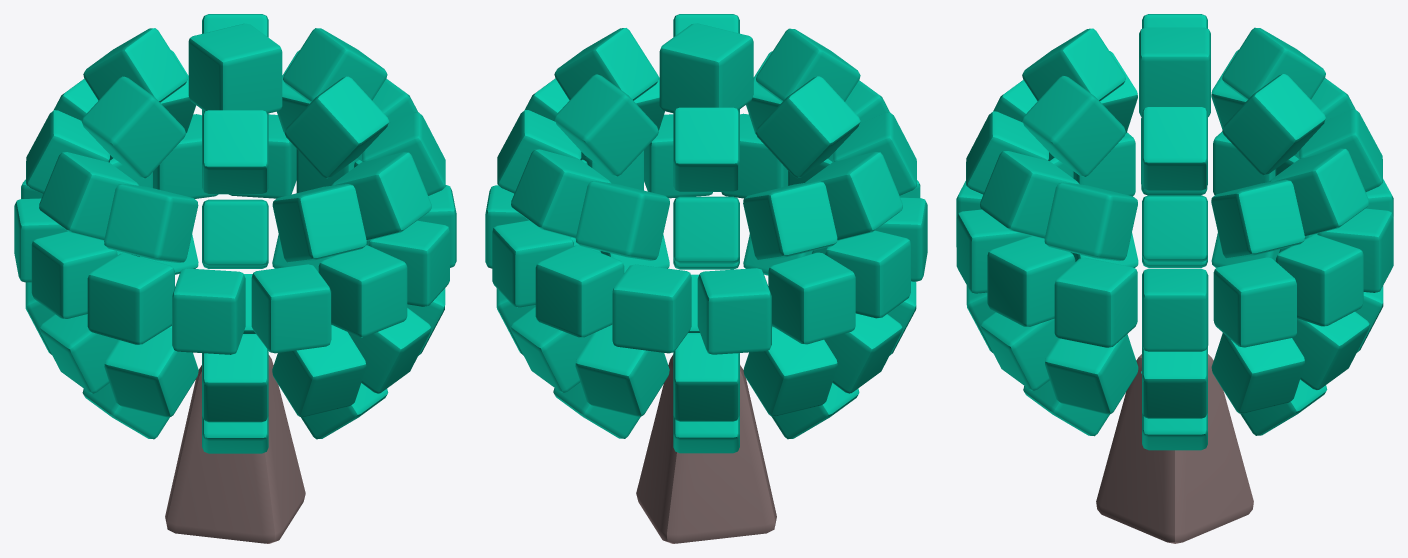
Rendered from bush_cute1.fbx.
3 renders of one model, left to right at view 1: azimuth 30°, elevation 25°; view 2: azimuth 150°, elevation 25°; view 3: azimuth 270°, elevation 25°, orthographic.
Parts seen in each view (by area): view 1: bush_cute1, base; view 2: bush_cute1, base; view 3: bush_cute1, base.
Boxes of the visible parts, x1,y1,x2,y2 form: bush_cute1: (14,14,456,453); base: (165,355,305,543); bush_cute1: (485,14,927,453); base: (636,354,776,543); bush_cute1: (956,14,1393,450); base: (1096,354,1253,543).
Size of the model in its own units: 1.64 by 1.97 by 1.65.
